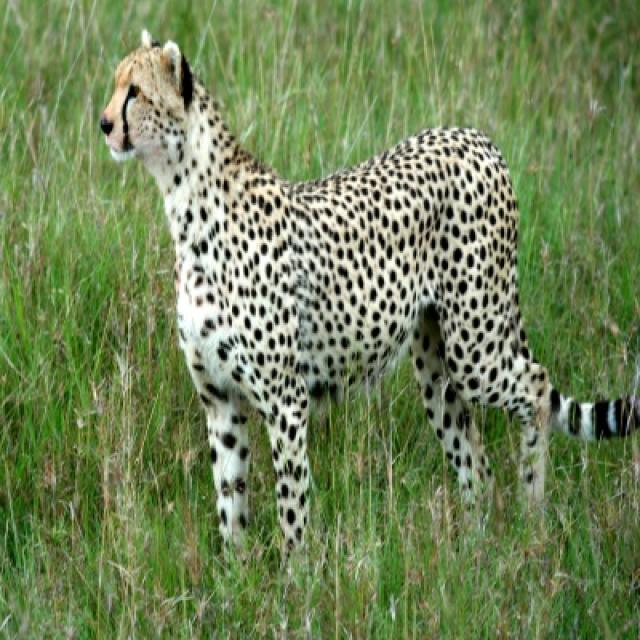Cheetah: (98, 32, 632, 555)
